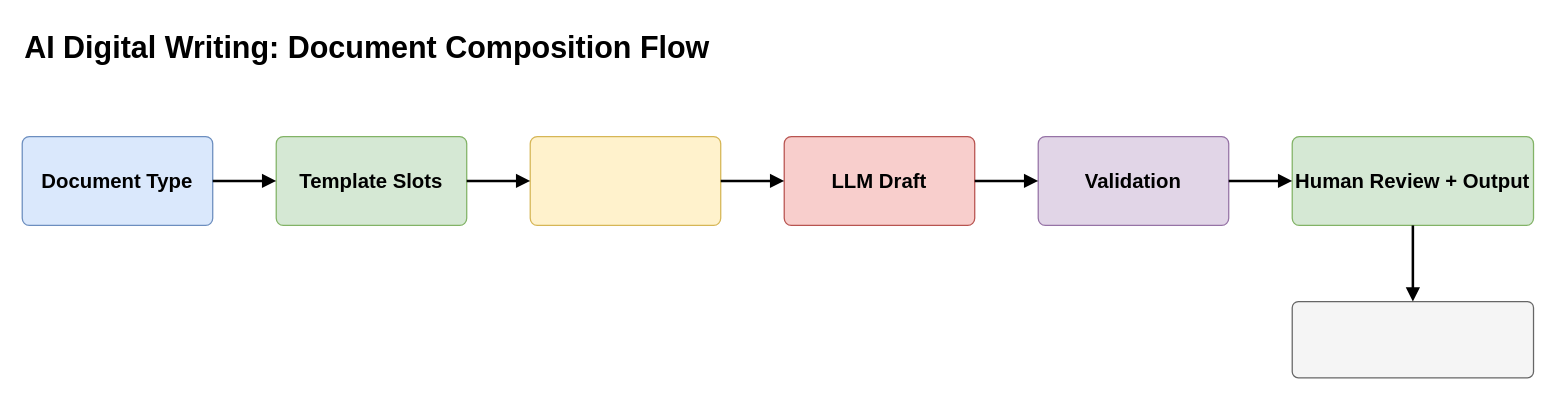
The diagram is 1556 pixels wide and 400 high, and some of its shapes have lost their labels. The centre of each missing label's shape, as x and y in pixels:
Evidence / RAG: point (625, 180)
HWPX / PDF / DOCX: point (1412, 339)
